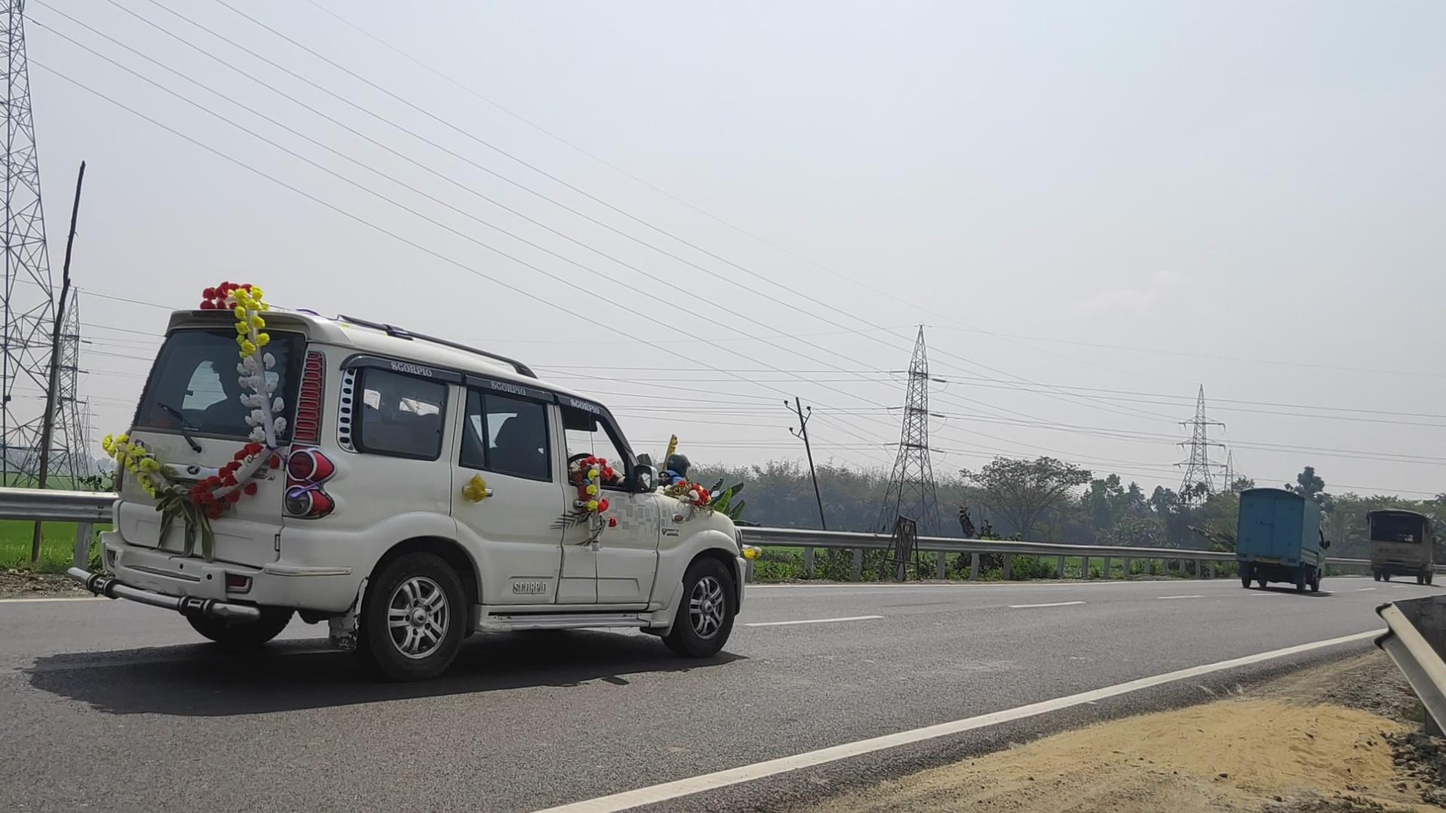car: (66, 283, 761, 680)
truck: (1366, 509, 1438, 586)
van: (1235, 487, 1331, 592)
